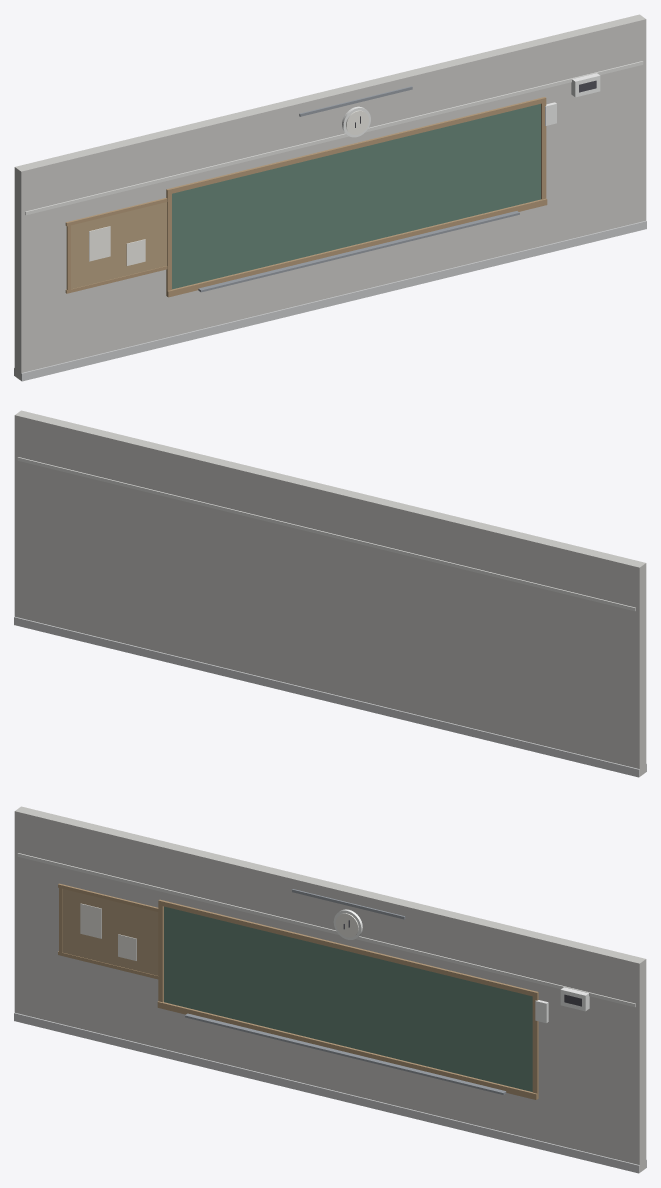
The model's file is classroom_teacher_wall_10m.fbx.
3 views of the same model, one above another, from view 1: azimuth 30°, elevation 25°; view 2: azimuth 150°, elevation 25°; view 3: azimuth 330°, elevation 25° (orthographic).
Parts seen in each view (by area): view 1: classroom_teacher_wall_10m; view 2: classroom_teacher_wall_10m; view 3: classroom_teacher_wall_10m.
Part boxes in pixels (x1,y1,x2,y2): classroom_teacher_wall_10m: [14, 14, 646, 381]; classroom_teacher_wall_10m: [14, 410, 646, 777]; classroom_teacher_wall_10m: [14, 806, 646, 1173].
Bounding box in the file's own units: 1000 × 320 × 33.55.
